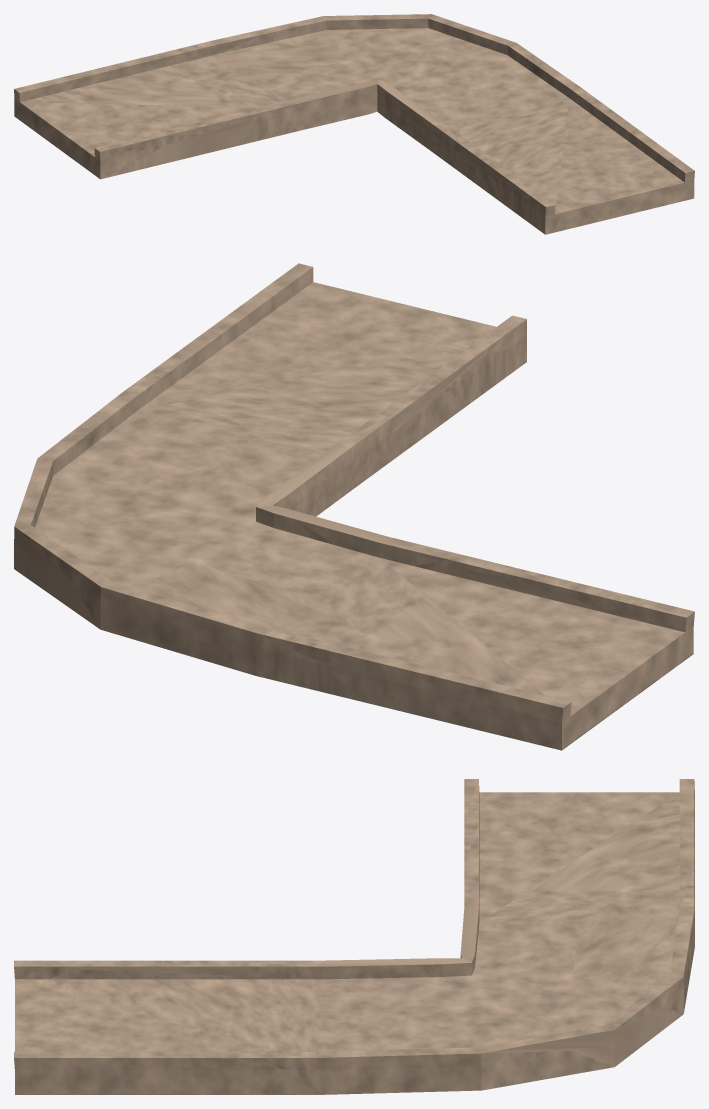
The model's file is Road_Rock_Turn.fbx.
3 views of the same model, one above another, from view 1: azimuth 30°, elevation 25°; view 2: azimuth 150°, elevation 25°; view 3: azimuth 270°, elevation 25° (orthographic). The views are drawn at different scales.
Visible parts, largest first — view 1: Road_Tiles-TurningLeft; view 2: Road_Tiles-TurningLeft; view 3: Road_Tiles-TurningLeft.
Boxes of the visible parts, left/top/right/bottom form: Road_Tiles-TurningLeft: left=14, top=14, right=694, bottom=234; Road_Tiles-TurningLeft: left=14, top=263, right=694, bottom=750; Road_Tiles-TurningLeft: left=14, top=779, right=694, bottom=1094.
Size of the model in its own units: 1126 by 75.09 by 1163.
Materials: 1 (1 with a texture image).
